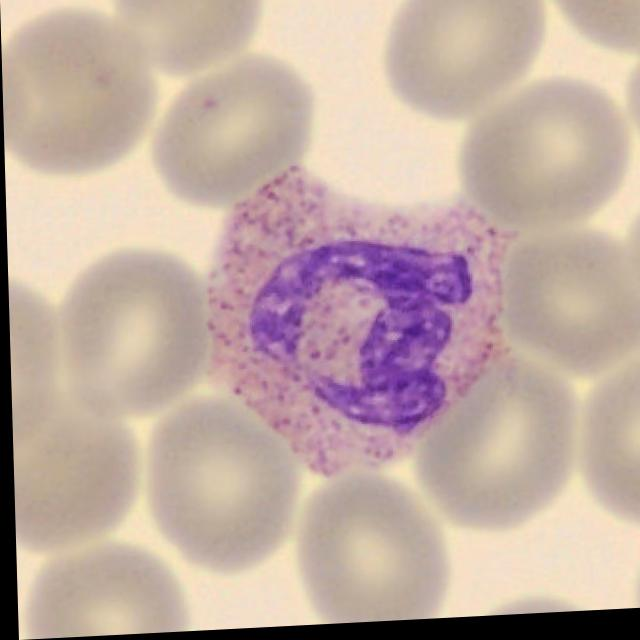Neutrofilo segmentado: (203, 169, 515, 482)
